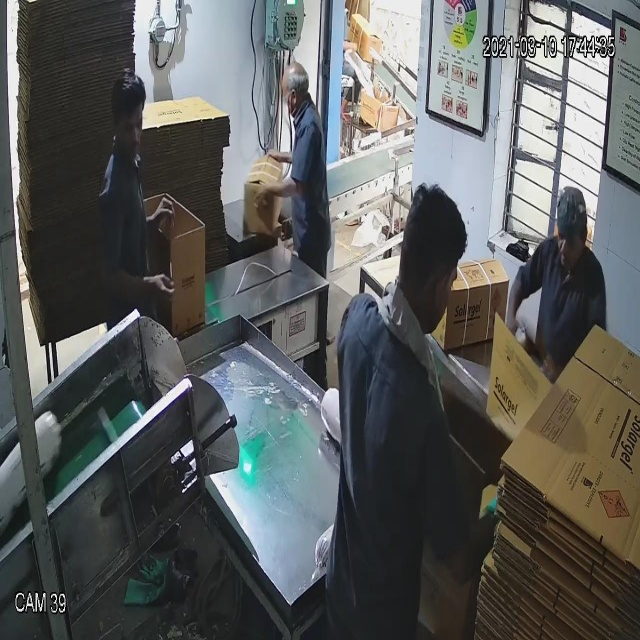Sin_guantes: (246, 164, 321, 228), (99, 253, 182, 309), (497, 260, 530, 357), (139, 194, 182, 249)
